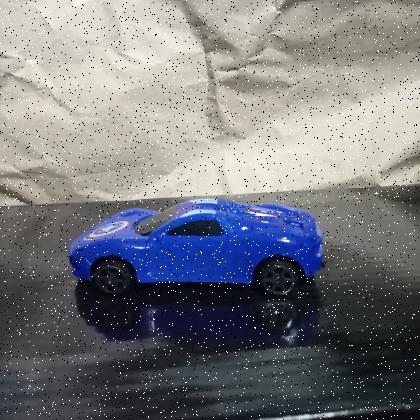Car: (62, 191, 332, 303)
